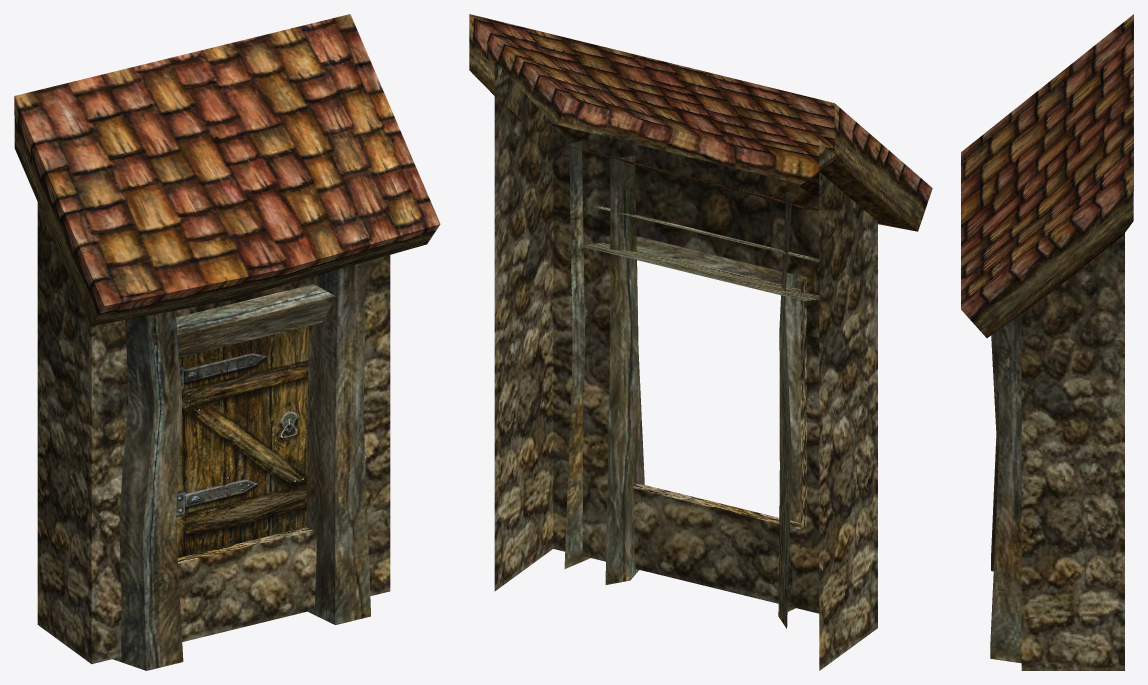
File: hrz12.glb
3 renders of one model, left to right at view 1: azimuth 30°, elevation 25°; view 2: azimuth 150°, elevation 25°; view 3: azimuth 270°, elevation 25°, orthographic. The views are drawn at different scales.
Visible parts, largest first — view 1: hrz12; view 2: hrz12; view 3: hrz12.
Boxes of the visible parts, x1=… form: hrz12: x1=14, y1=14, x2=440, y2=670; hrz12: x1=469, y1=14, x2=932, y2=670; hrz12: x1=961, y1=14, x2=1133, y2=670.
Size of the model in its own units: 3.6 by 5.5 by 1.67.
5 materials, 5 textured.
